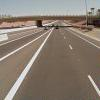Bridge: (4, 6, 89, 29)
